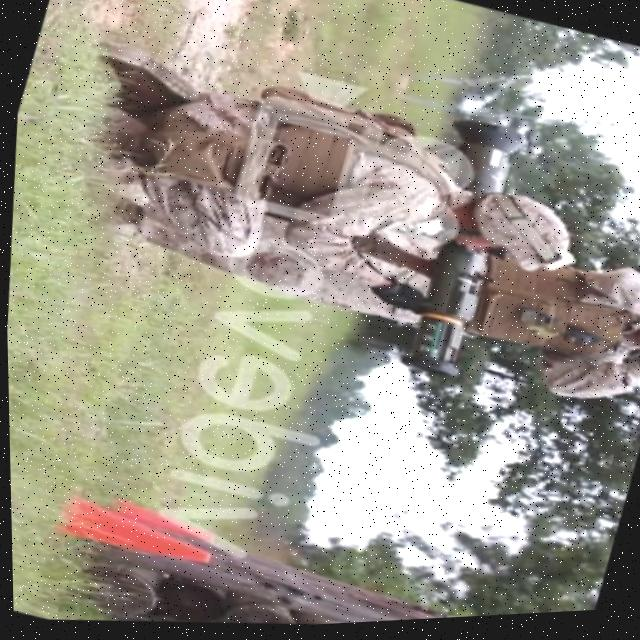rocket: (381, 112, 536, 395)
